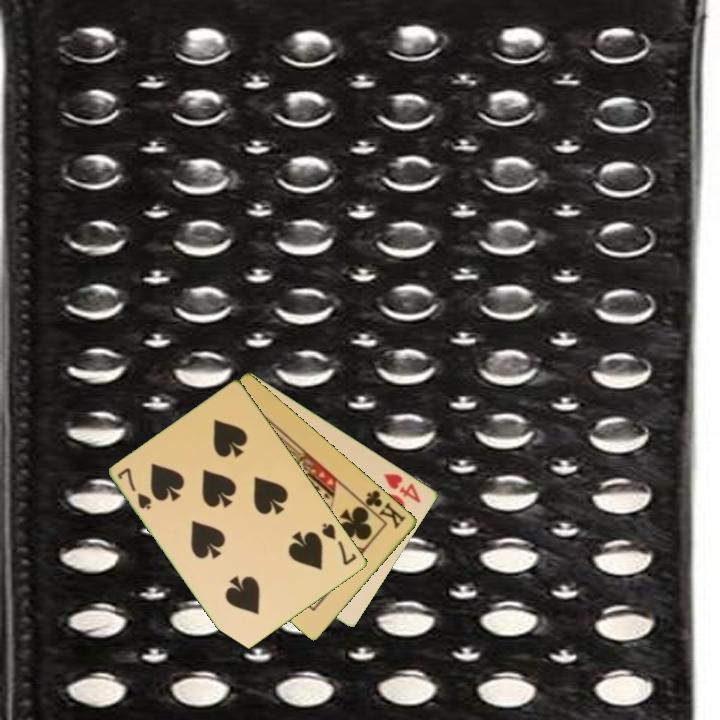4h: (380, 470, 424, 506)
7s: (318, 519, 360, 568), (114, 464, 155, 513)
Kc: (357, 486, 409, 532)
